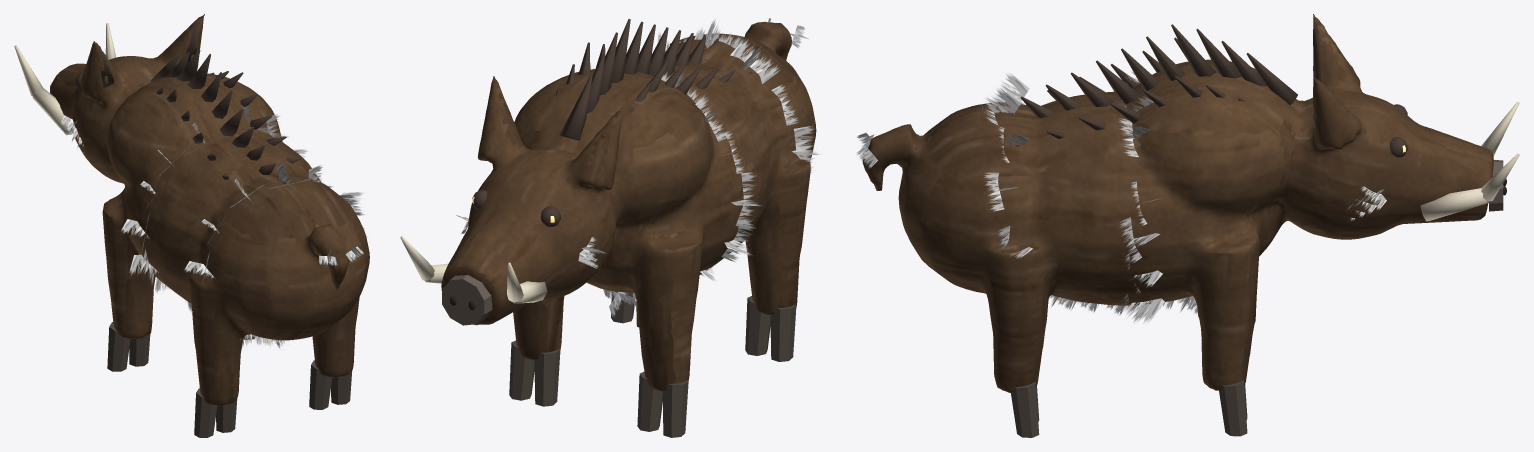
File: boar.glb
3 views of the same model, side by side, from view 1: azimuth 30°, elevation 25°; view 2: azimuth 150°, elevation 25°; view 3: azimuth 270°, elevation 25° (orthographic). The views are drawn at different scales.
Parts seen in each view (by area): view 1: Boar; view 2: Boar; view 3: Boar.
Boxes of the visible parts, x1,y1,x2,y2 form: Boar: (14,14,369,437); Boar: (400,18,819,437); Boar: (856,14,1519,437).
Bounding box in the file's own units: 0.7346 × 1.08 × 1.76.
8 materials, 2 textured.
